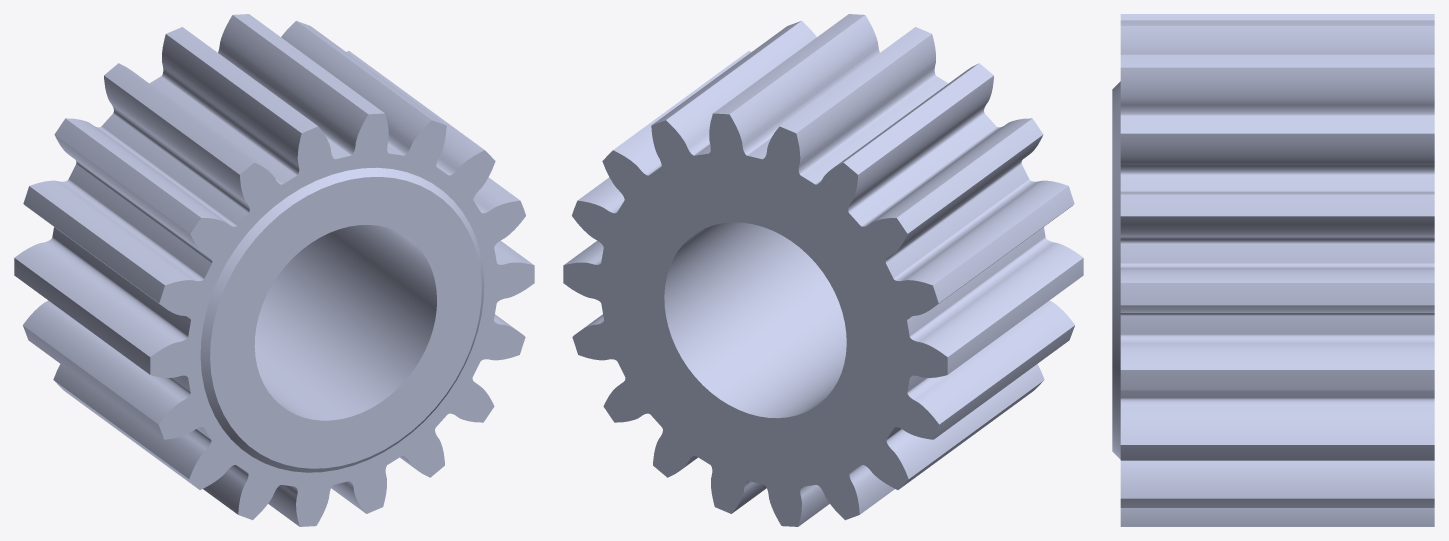
The model's file is REV_21_2101_P05_7_solid1.obj.
3 renders of one model, left to right at view 1: azimuth 30°, elevation 25°; view 2: azimuth 150°, elevation 25°; view 3: azimuth 270°, elevation 25°, orthographic. The views are drawn at different scales.
Parts seen in each view (by area): view 1: mesh23400, mesh23397, mesh23399, mesh23471, mesh23440, mesh23473, mesh23438, mesh23442, mesh23467, mesh23445, mesh23396, mesh23452 (+20 smaller); view 2: mesh23401, mesh23399, mesh23471, mesh23440, mesh23473, mesh23438, mesh23442, mesh23467, mesh23445, mesh23452, mesh23416, mesh23415 (+17 smaller); view 3: mesh23466, mesh23459, mesh23468, mesh23461, mesh23463, mesh23470, mesh23464, mesh23405, mesh23408, mesh23465, mesh23403, mesh23433 (+16 smaller).
Part boxes in pixels (x1,y1,x2,y2): mesh23400: (150, 113, 534, 526); mesh23397: (210, 177, 481, 468); mesh23399: (254, 225, 436, 420); mesh23471: (218, 15, 368, 155); mesh23440: (14, 237, 188, 356); mesh23473: (161, 34, 301, 175); mesh23438: (23, 300, 190, 424); mesh23442: (29, 179, 204, 285); mesh23467: (281, 21, 431, 155); mesh23445: (104, 75, 249, 212); mesh23396: (200, 167, 475, 402); mesh23452: (53, 364, 211, 478); mesh23401: (563, 113, 947, 526); mesh23399: (664, 222, 846, 418); mesh23471: (729, 15, 879, 155); mesh23440: (909, 237, 1083, 356); mesh23473: (796, 34, 936, 175); mesh23438: (907, 300, 1074, 424); mesh23442: (893, 179, 1068, 285); mesh23467: (666, 21, 816, 155); mesh23445: (848, 75, 993, 212); mesh23452: (886, 364, 1044, 478); mesh23416: (897, 118, 1043, 233); mesh23415: (843, 63, 993, 174); mesh23466: (1120, 67, 1434, 115); mesh23459: (1120, 398, 1434, 444); mesh23468: (1120, 133, 1434, 175); mesh23461: (1120, 460, 1434, 498); mesh23463: (1120, 334, 1434, 369); mesh23470: (1120, 26, 1434, 54); mesh23464: (1120, 216, 1434, 243); mesh23405: (1120, 194, 1434, 216); mesh23408: (1120, 370, 1434, 390); mesh23465: (1120, 263, 1434, 282); mesh23403: (1120, 115, 1434, 133); mesh23433: (1120, 244, 1434, 262).
Size of the model in its own units: 0.0127 by 0.0126 by 0.008.
